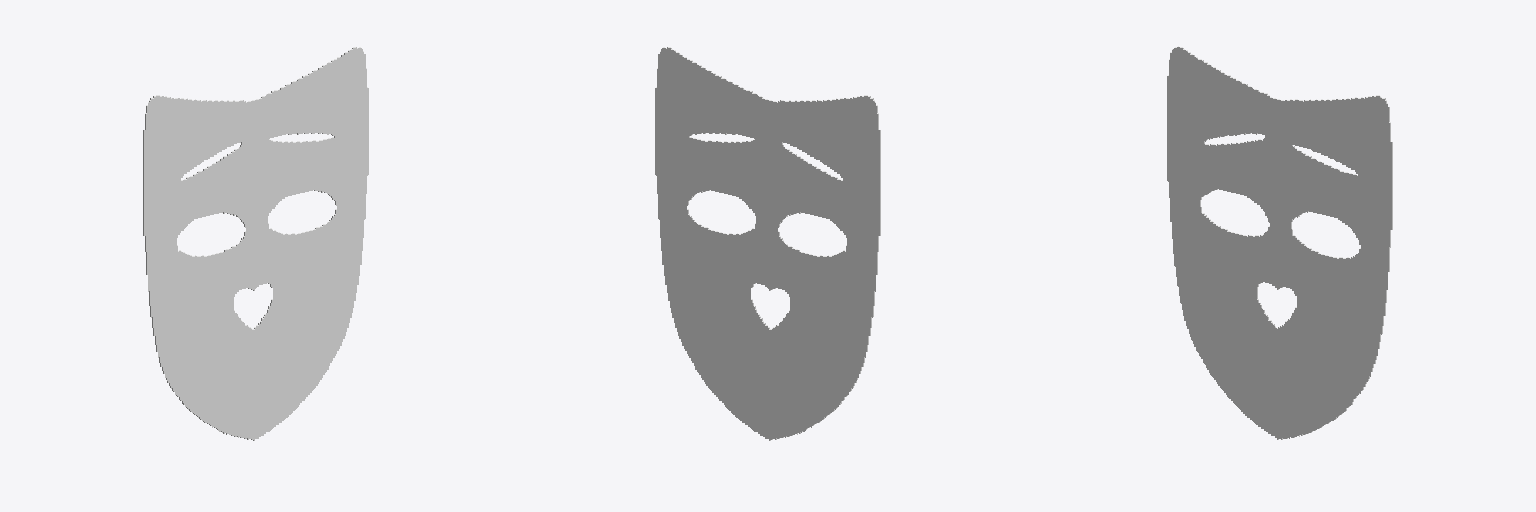
File: MaskOnFace.obj
3 views of the same model, side by side, from view 1: azimuth 30°, elevation 25°; view 2: azimuth 150°, elevation 25°; view 3: azimuth 330°, elevation 25° (orthographic).
Parts seen in each view (by area): view 1: object 1; view 2: object 1; view 3: object 1.
Boxes of the visible parts, <box> form: object 1: <box>143,47,368,440</box>; object 1: <box>655,47,880,440</box>; object 1: <box>1167,46,1392,439</box>.
Bounding box in the file's own units: 15.8 × 24.8 × 0.1.